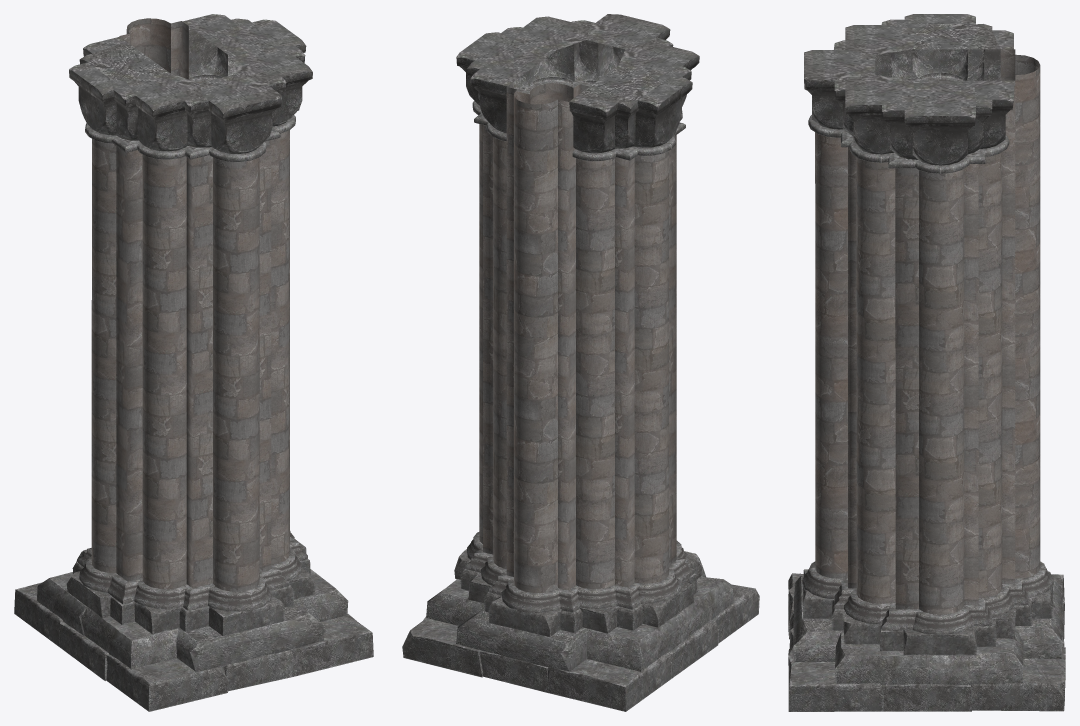
The picture shows the model from 3 angles, left to right: view 1: azimuth 30°, elevation 25°; view 2: azimuth 150°, elevation 25°; view 3: azimuth 270°, elevation 25°; orthographic projection. The views are drawn at different scales.
Visible parts, largest first — view 1: SM_PillarHuge01_LOD0; view 2: SM_PillarHuge01_LOD0; view 3: SM_PillarHuge01_LOD0.
Part boxes in pixels (<box>): SM_PillarHuge01_LOD0: <box>14,14,373,711</box>; SM_PillarHuge01_LOD0: <box>402,14,759,711</box>; SM_PillarHuge01_LOD0: <box>788,14,1065,711</box>.
Bounding box in the file's own units: 2.85 × 6.91 × 2.94.
Materials: 2 (2 with a texture image).
